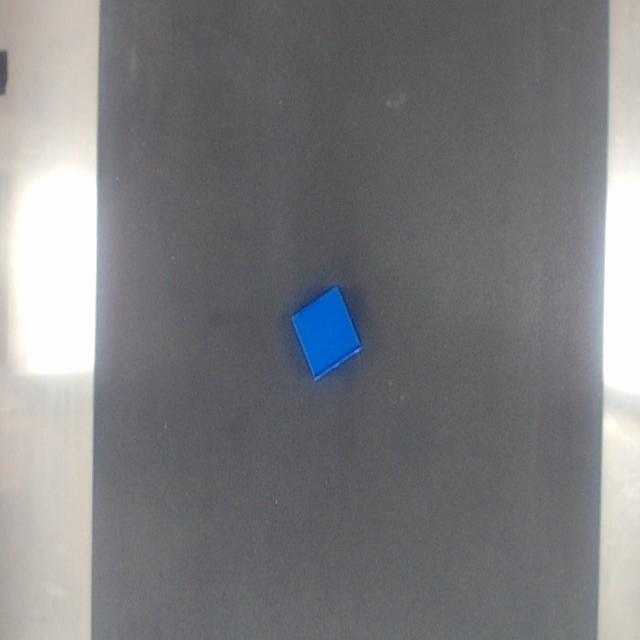Azul: (291, 287, 362, 381)
